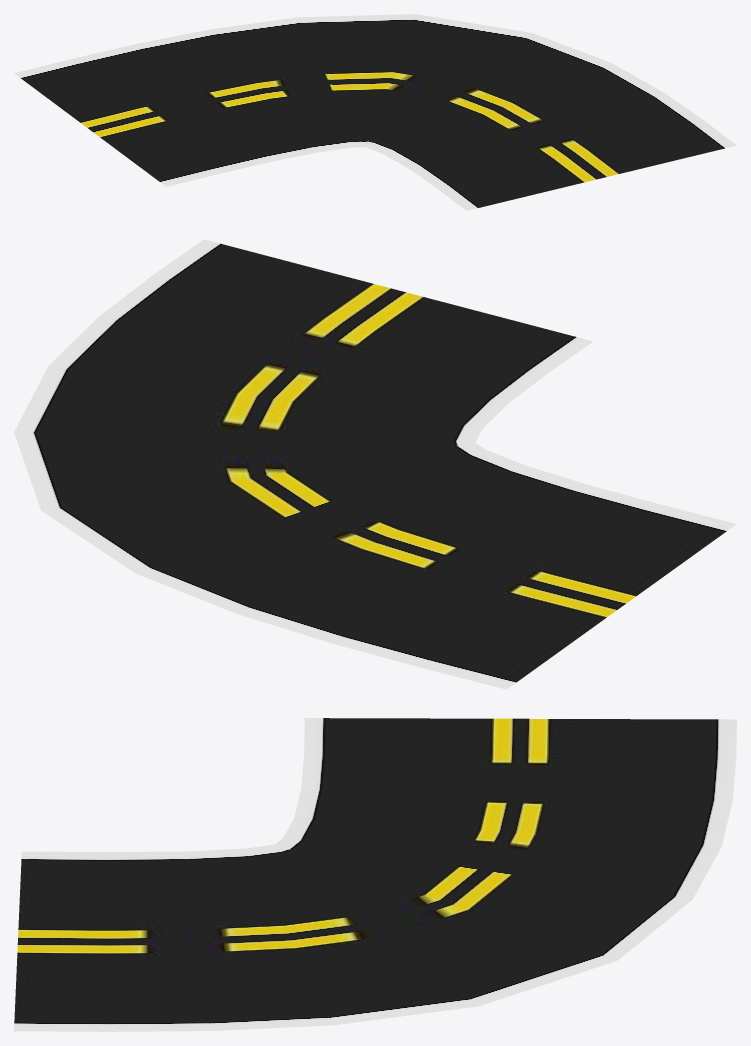
The picture shows the model from 3 angles, top to bottom: view 1: azimuth 30°, elevation 25°; view 2: azimuth 150°, elevation 25°; view 3: azimuth 270°, elevation 25°; orthographic projection. The views are drawn at different scales.
Parts seen in each view (by area): view 1: Tube_1; view 2: Tube_1; view 3: Tube_1.
Part boxes in pixels (x1,y1,x2,y2): Tube_1: (14,14,736,210); Tube_1: (14,239,736,689); Tube_1: (14,718,736,1031).
Bounding box in the file's own units: 83.14 × 0.623 × 79.64.
1 material, 1 textured.
